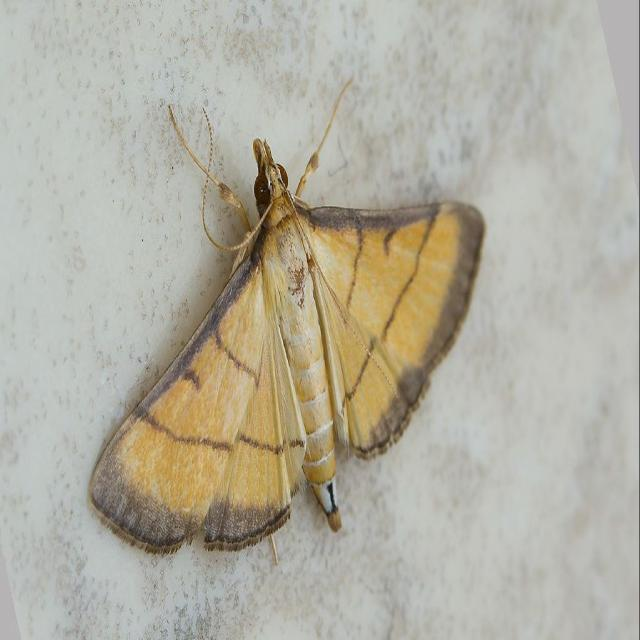rice leaf roller -penggulung daun padi-: (86, 75, 487, 565)
